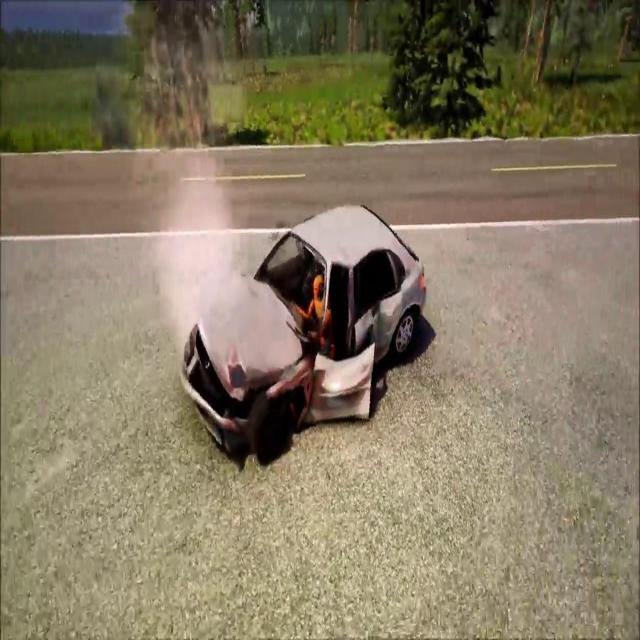accident: (174, 199, 430, 459)
